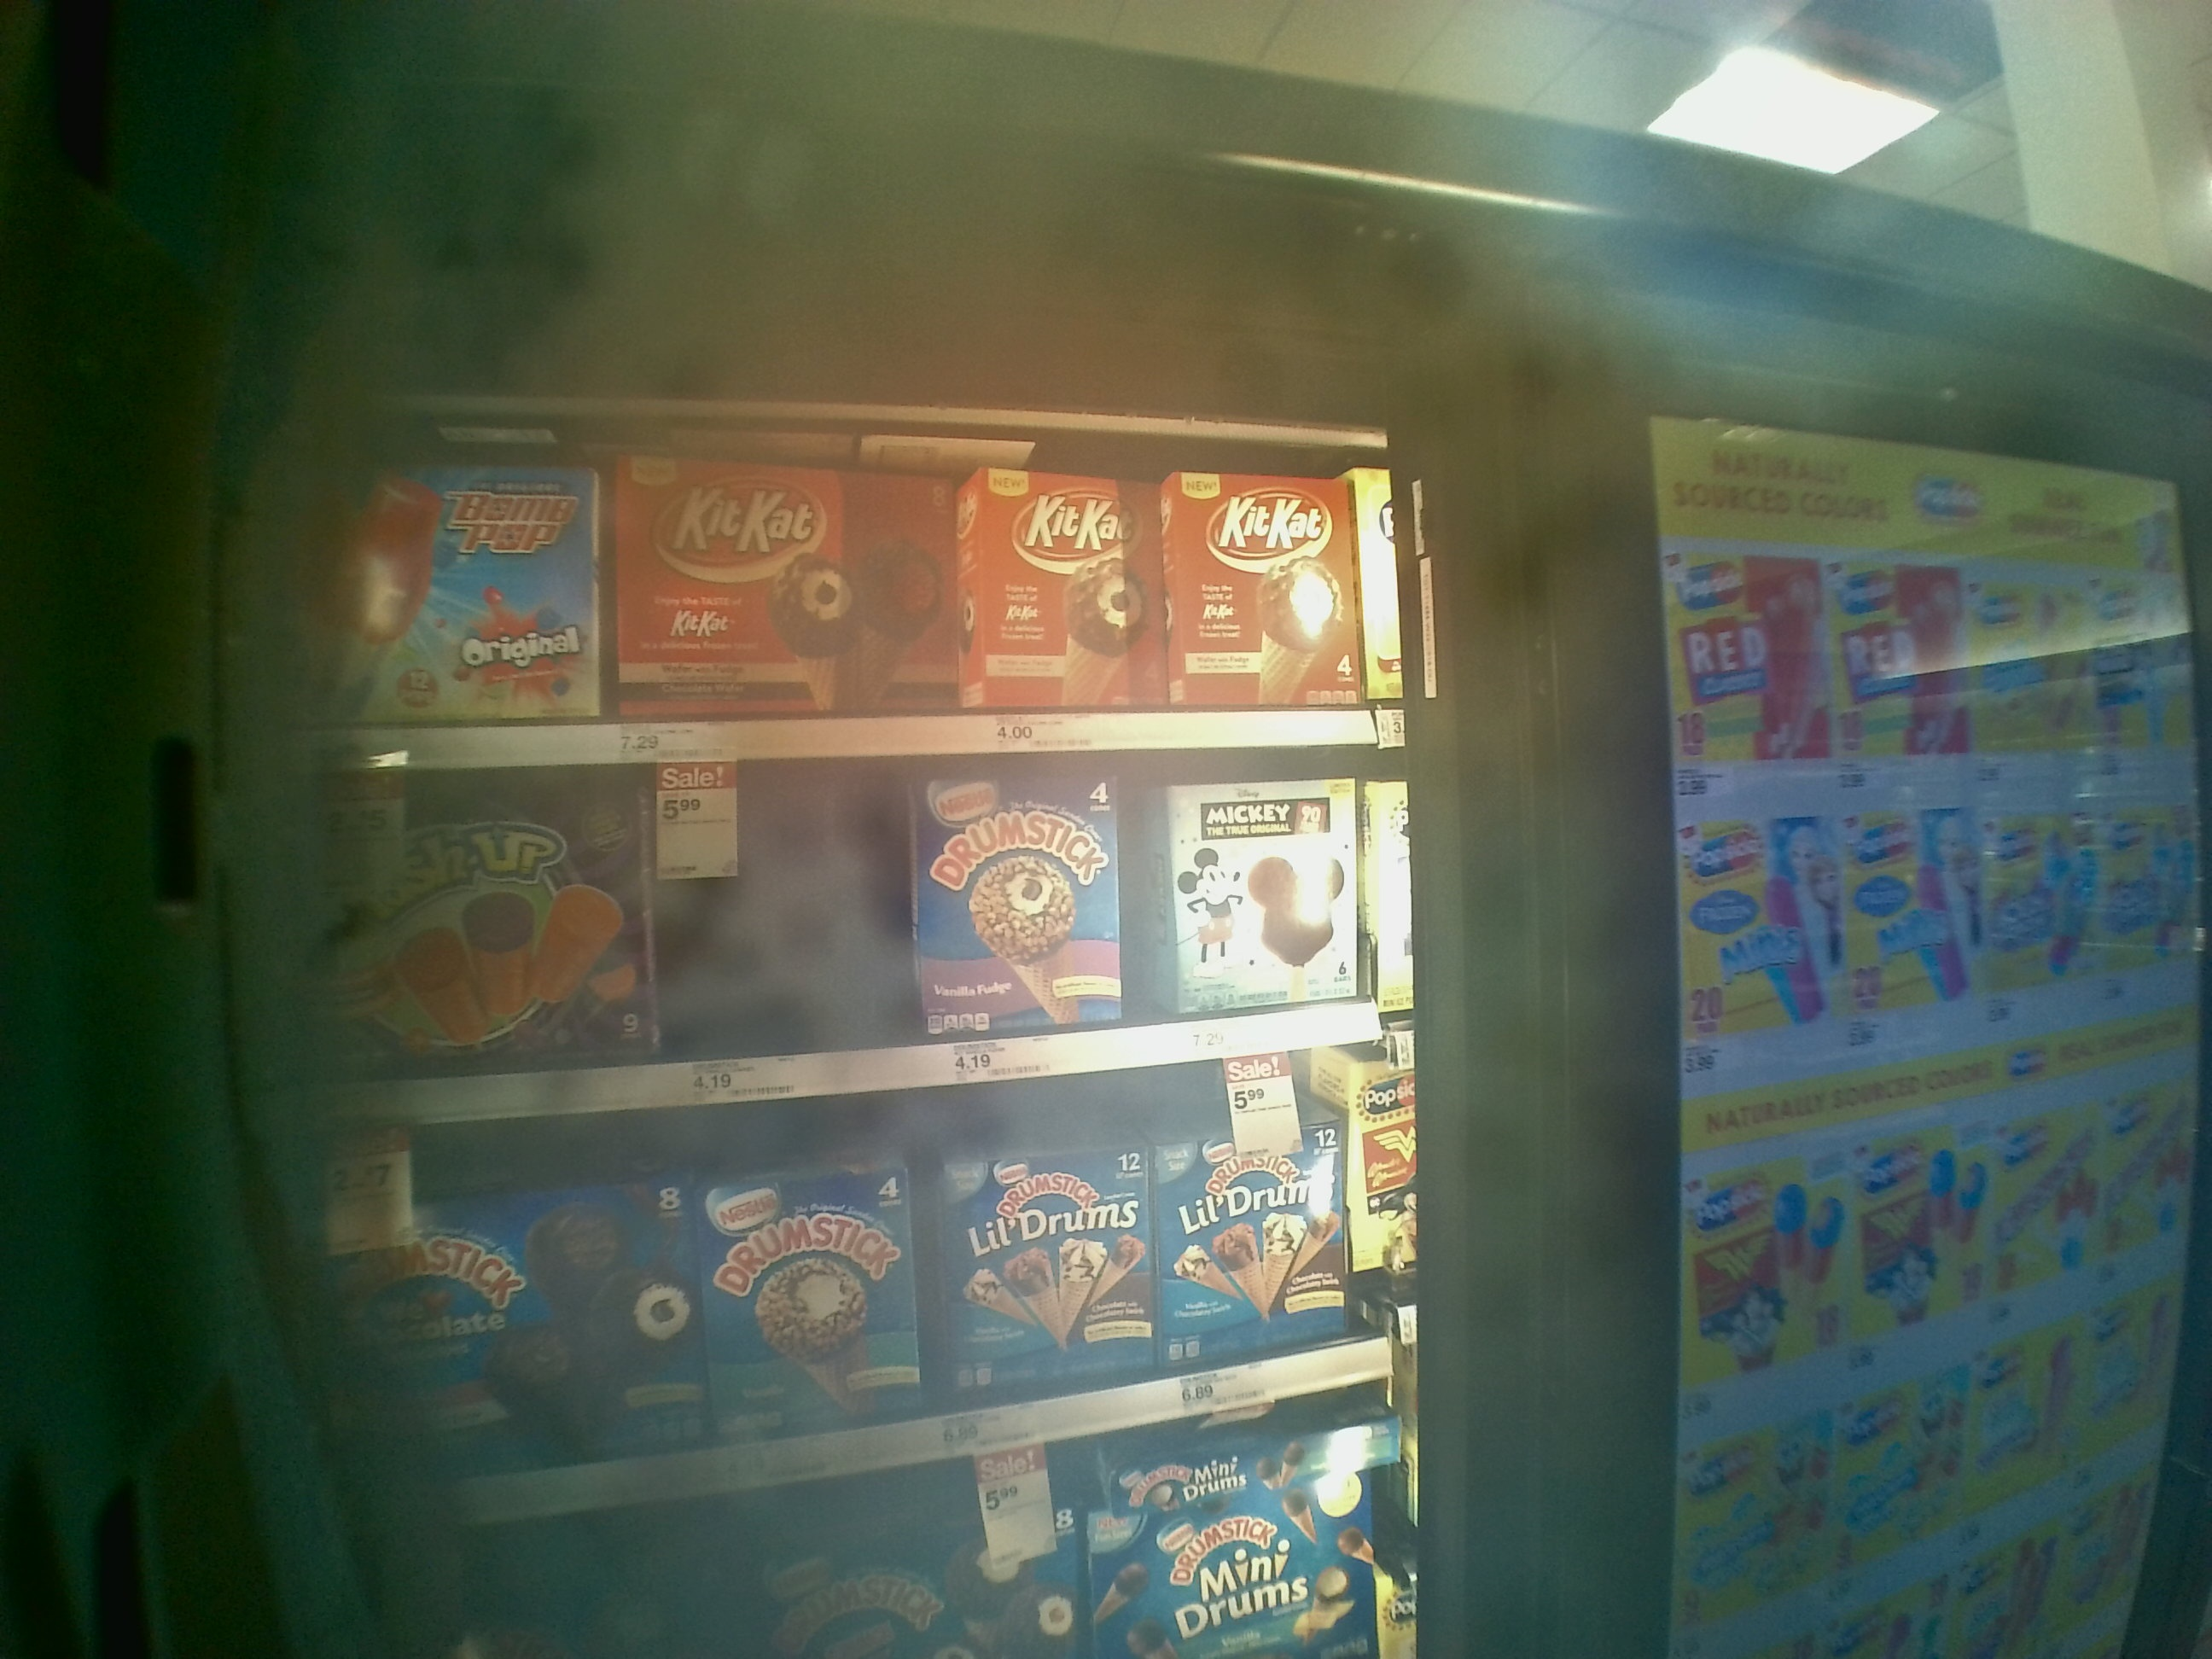shelf: (319, 763, 1433, 1133), (303, 416, 1407, 767)
